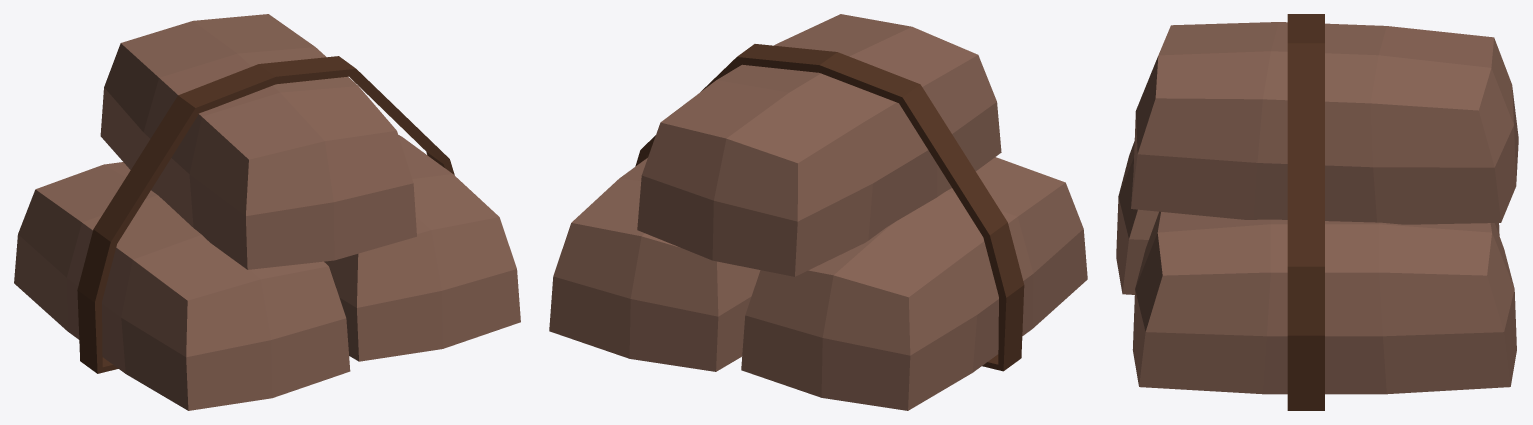
File: LPWarPack_Plane.fbx
The picture shows the model from 3 angles, left to right: view 1: azimuth 30°, elevation 25°; view 2: azimuth 150°, elevation 25°; view 3: azimuth 270°, elevation 25°; orthographic projection. The views are drawn at different scales.
Visible parts, largest first — view 1: Plane; view 2: Plane; view 3: Plane.
Boxes of the visible parts, x1=… form: Plane: x1=14, y1=14, x2=520, y2=410; Plane: x1=549, y1=14, x2=1087, y2=410; Plane: x1=1116, y1=14, x2=1518, y2=410.
Size of the model in its own units: 158 by 103 by 139.
